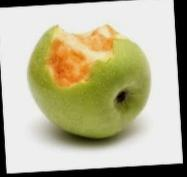rotten apple: (24, 16, 158, 140)
